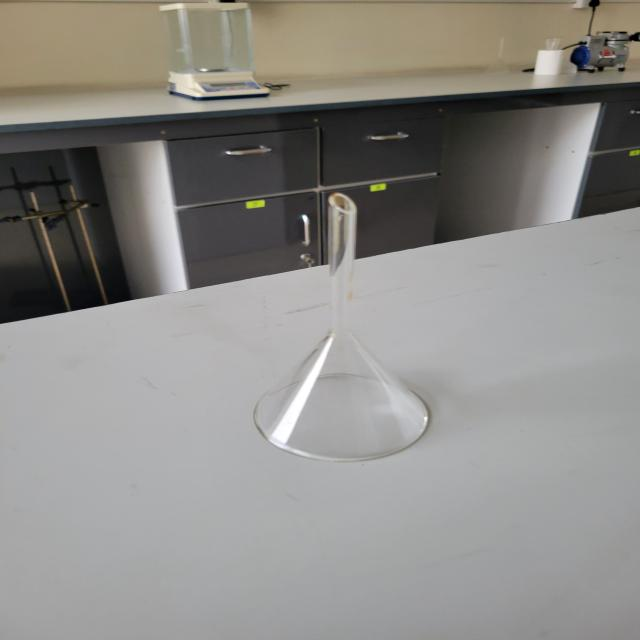Funnel: (224, 153, 462, 485)
